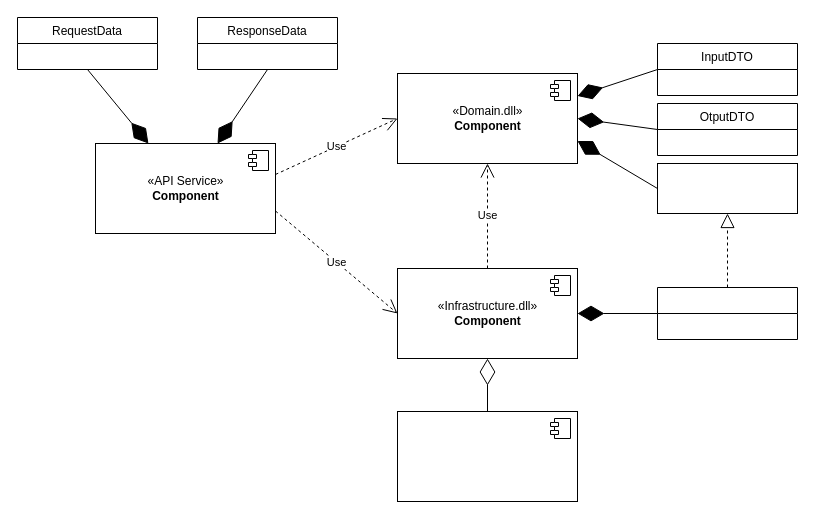
Some shapes in this 815 by 519 pixel diagram are drawn without their labels. Here are the shapes that lost their labels. From the top down, the box of each, then its label:
(656, 162, 798, 214): «interface» API Methods
(656, 286, 798, 340): API Methods
(396, 410, 578, 502): Внешние библиотеки Component
